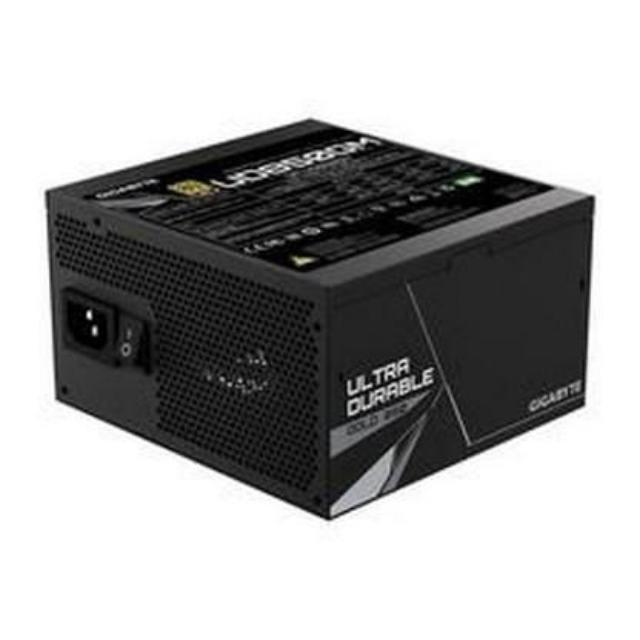PSU: (40, 109, 602, 524)
